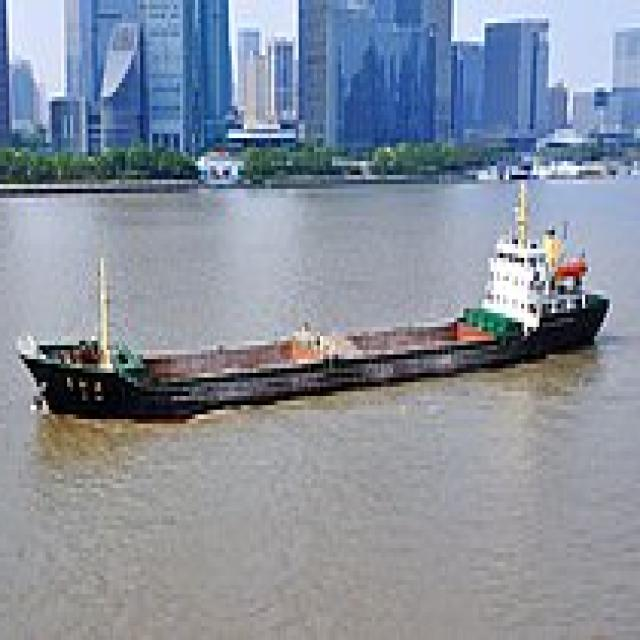Cargo: (18, 170, 619, 419)
